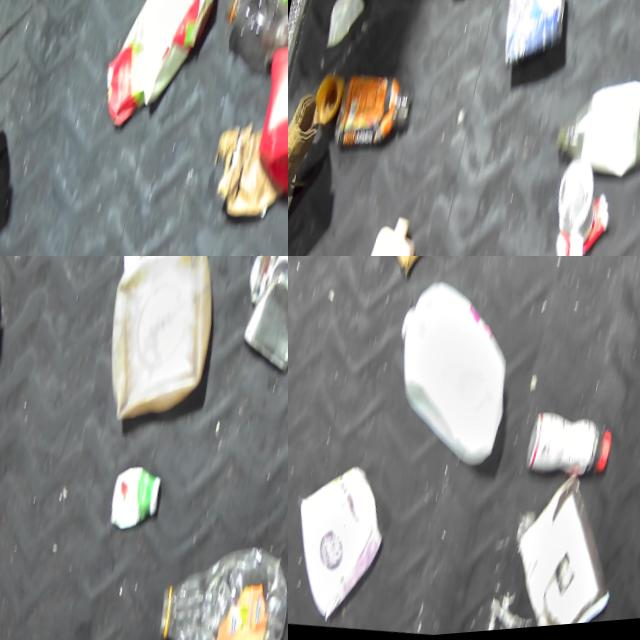can: (497, 0, 575, 75), (238, 273, 288, 382), (244, 256, 288, 316)
milk_jug: (378, 273, 530, 482), (93, 256, 231, 438)
non_white_jug: (94, 0, 221, 144), (248, 45, 288, 210)
plastic_bottle: (152, 534, 288, 640), (218, 0, 288, 75)
